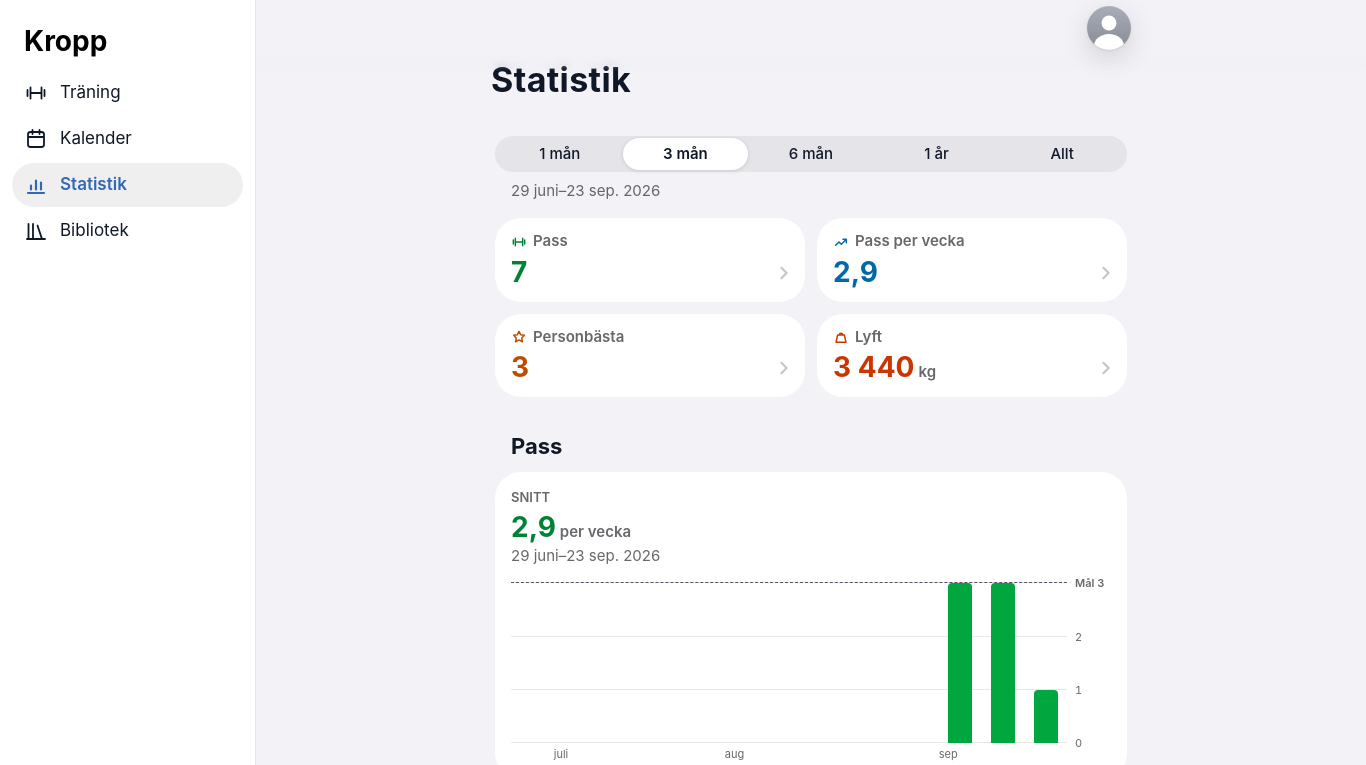
Test: picks nothing when a finger scrolls over a chart, and picks on a tap
Press the mouse on the element with test id "plot" at (1003, 663), box [948,583,1058,743]
Check: the element with test id "readout" shows "Snitt", box [511,489,550,505]
Press the mouse on the element with test id "plot" at (1003, 663), box [948,583,1058,743]
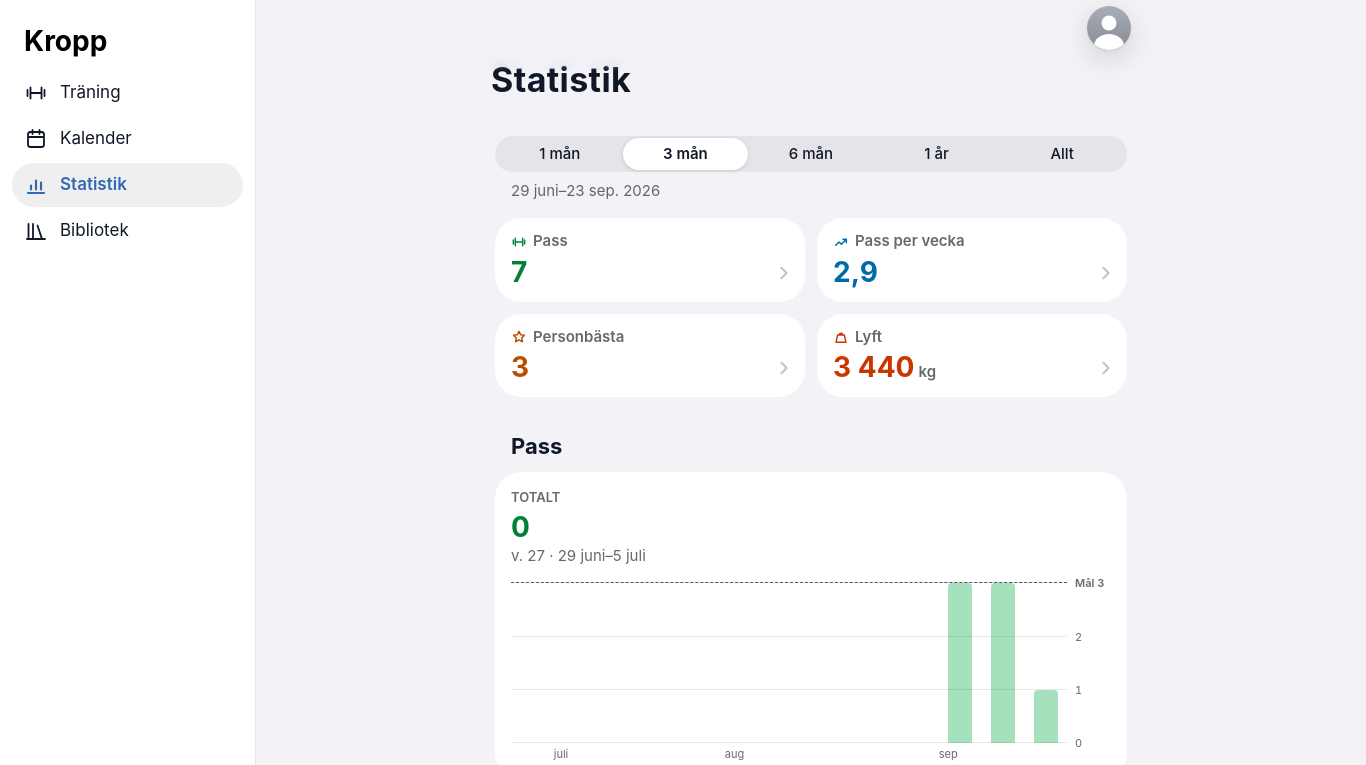
Check: the text with test id "readout-sub" shows "v.", box [511,546,646,565]
Check: the text with test id "readout" no longer shows "Snitt"
